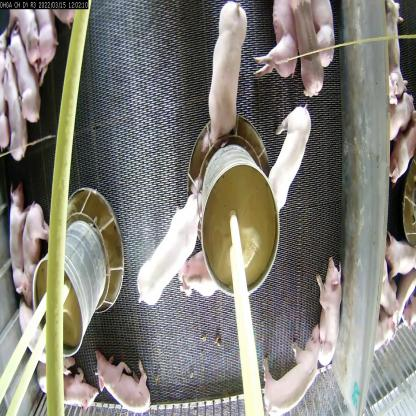Pig: (131, 183, 199, 304), (262, 96, 312, 222), (210, 0, 247, 163), (22, 192, 64, 318), (256, 344, 321, 415), (320, 261, 353, 377), (181, 257, 236, 326), (281, 0, 323, 87), (97, 357, 154, 415), (6, 21, 42, 111), (46, 355, 98, 410), (2, 174, 25, 290), (3, 47, 25, 165), (262, 0, 292, 79), (11, 4, 35, 69), (316, 0, 338, 68)
